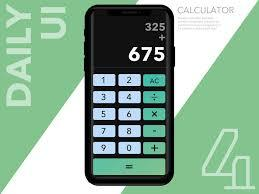Calculator: (90, 43, 172, 178)
